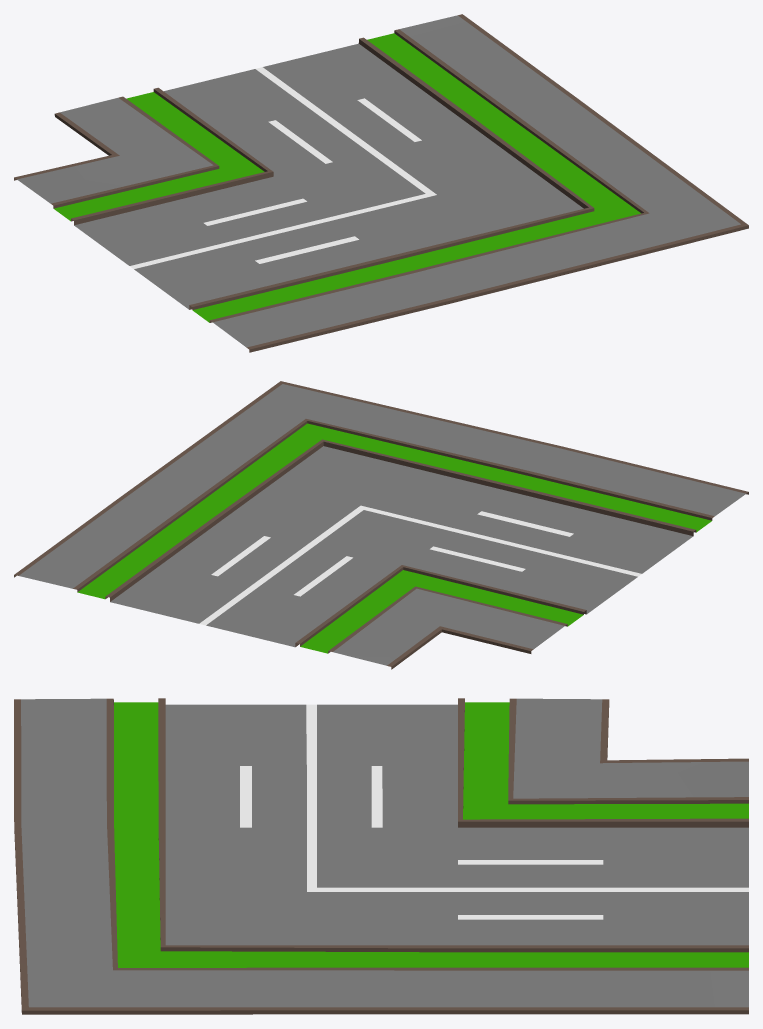
File: SM_Road_P10.fbx
The picture shows the model from 3 angles, top to bottom: view 1: azimuth 30°, elevation 25°; view 2: azimuth 150°, elevation 25°; view 3: azimuth 270°, elevation 25°; orthographic projection. The views are drawn at different scales.
Visible parts, largest first — view 1: SM_Road_P10; view 2: SM_Road_P10; view 3: SM_Road_P10.
Part boxes in pixels (bbox=[...]): SM_Road_P10: bbox=[14, 14, 748, 352]; SM_Road_P10: bbox=[14, 381, 748, 669]; SM_Road_P10: bbox=[14, 698, 748, 1014].
Size of the model in its own units: 3070 by 28.46 by 3065.
